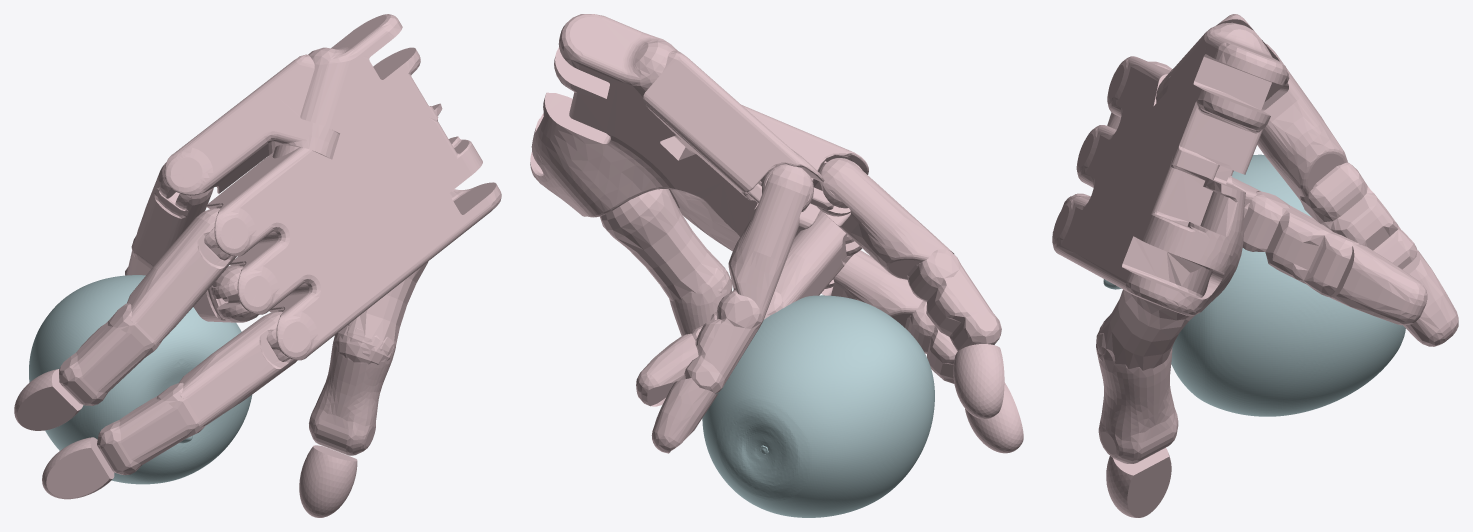
File: grasp_2.glb
3 views of the same model, side by side, from view 1: azimuth 30°, elevation 25°; view 2: azimuth 150°, elevation 25°; view 3: azimuth 270°, elevation 25° (orthographic). The views are drawn at different scales.
Visible parts, largest first — view 1: world; view 2: world; view 3: world.
Boxes of the visible parts, <box> form: world: <box>14,14,501,517</box>; world: <box>530,14,1023,517</box>; world: <box>1052,14,1458,517</box>.
Size of the model in its own units: 0.1901 by 0.1718 by 0.1186.
